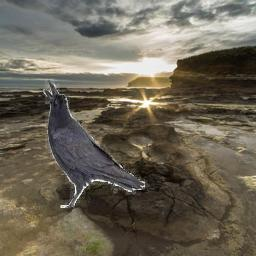Crow: (43, 78, 145, 208)
